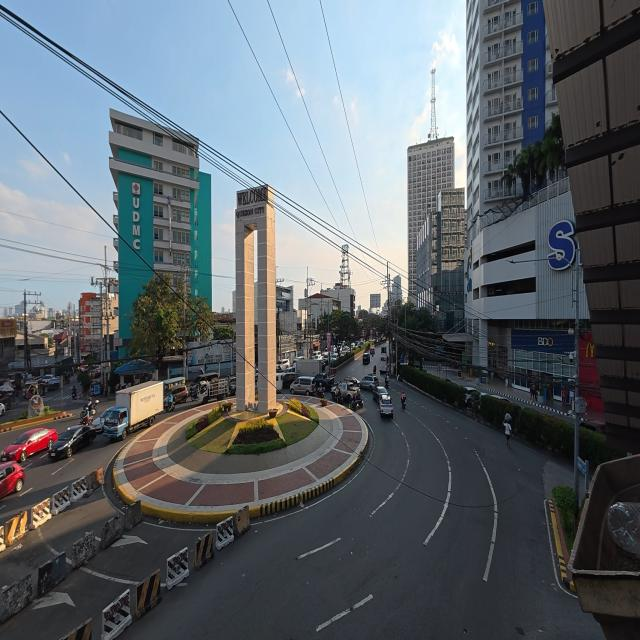car: (0, 460, 25, 500)
trucks: (100, 377, 167, 441)
